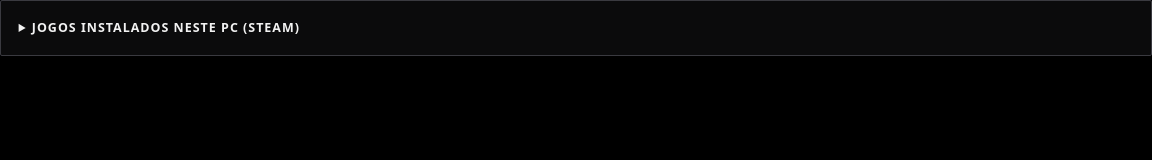
Scenario: InstalledGames › sem Steam mostra como configurar; erro da API aparece
Later steps or results of the test are not shown.
Step 1. Click the heading "Jogos instalados neste PC (Steam)" → (166, 27), box 32,19 -> 300,36
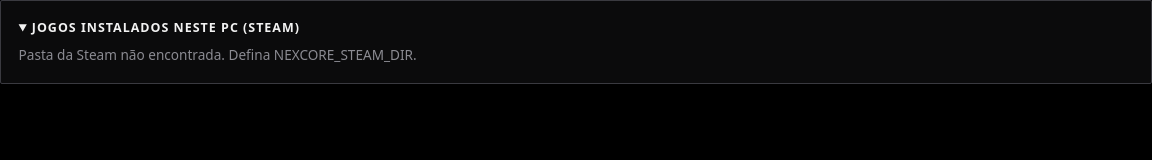
expect the text "Pasta da Steam não encontrada. Defina NEXCORE_STEAM_DIR." is shown: met, box 19,45 -> 417,64
